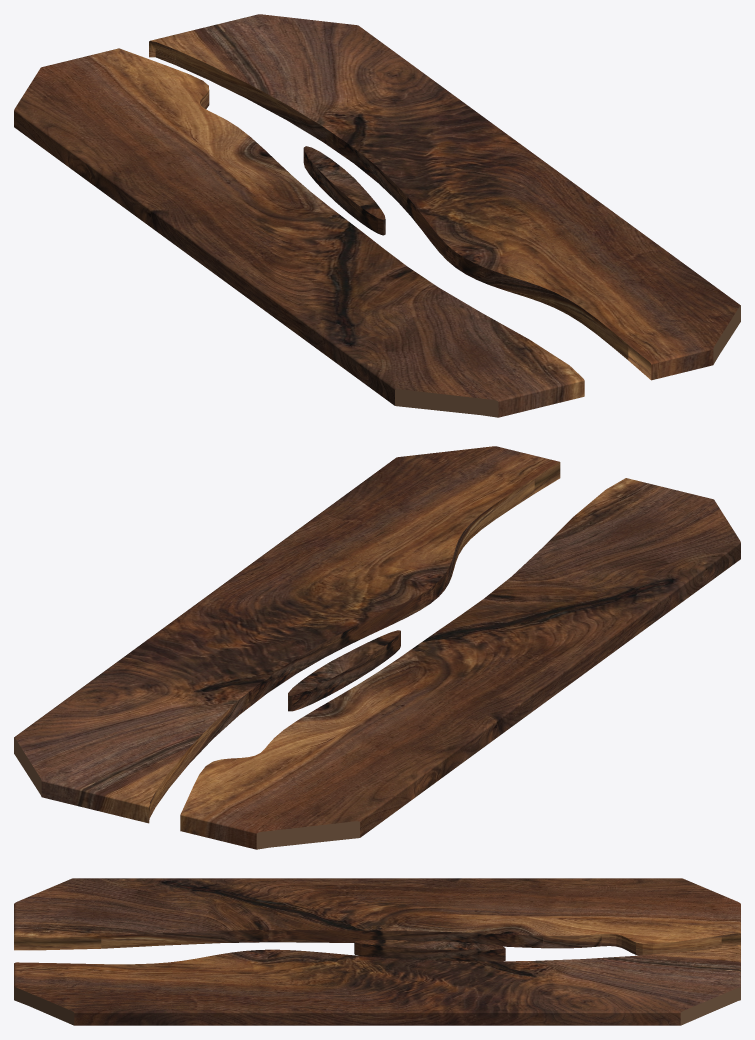
File: tabletop-wood-angled-corners-source.glb
The picture shows the model from 3 angles, top to bottom: view 1: azimuth 30°, elevation 25°; view 2: azimuth 150°, elevation 25°; view 3: azimuth 270°, elevation 25°; orthographic projection. The views are drawn at different scales.
Parts seen in each view (by area): view 1: tabletop_wood_angled_corners_source; view 2: tabletop_wood_angled_corners_source; view 3: tabletop_wood_angled_corners_source.
Part boxes in pixels (<box>): tabletop_wood_angled_corners_source: <box>14,14,740,417</box>; tabletop_wood_angled_corners_source: <box>14,446,740,849</box>; tabletop_wood_angled_corners_source: <box>14,878,740,1025</box>.
Bounding box in the file's own units: 1.07 × 0.0508 × 2.44.
1 material, 1 textured.
